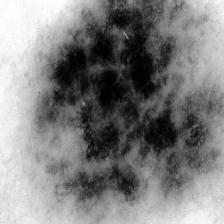Benign Marking or Mole: (23, 0, 224, 212)
